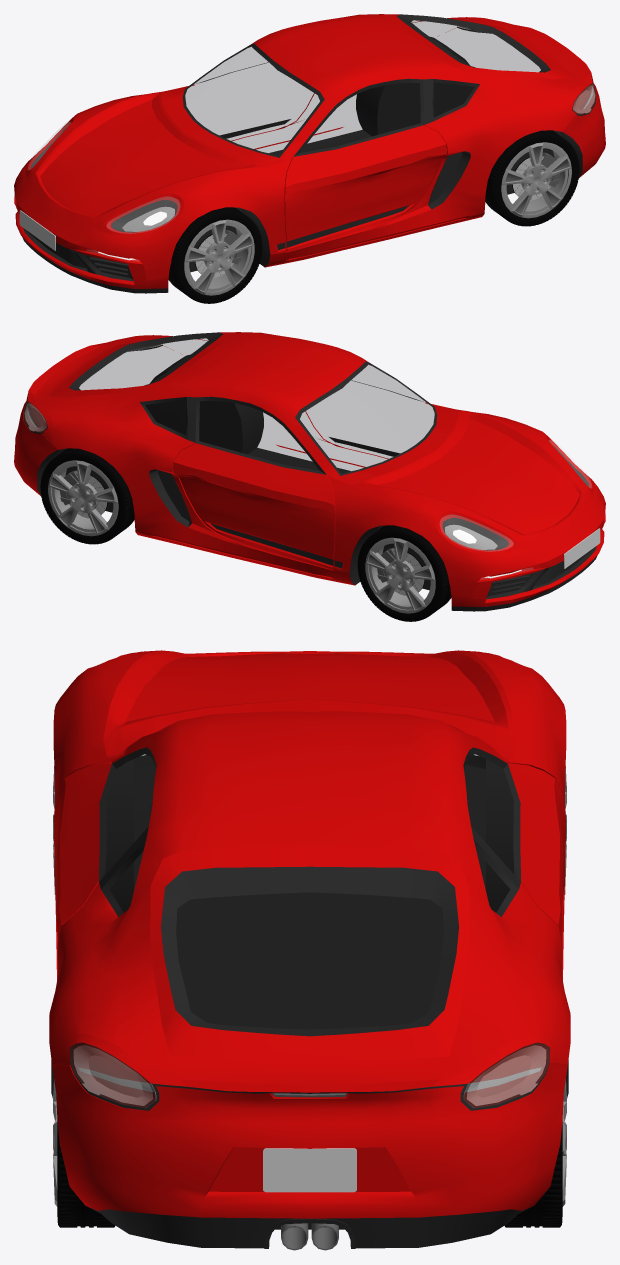
The model's file is High_718Cayman.gltf.
3 views of the same model, one above another, from view 1: azimuth 30°, elevation 25°; view 2: azimuth 150°, elevation 25°; view 3: azimuth 270°, elevation 25° (orthographic). The views are drawn at different scales.
Parts seen in each view (by area): view 1: body, High, lowdisk.002; view 2: body, High, lowdisk.002; view 3: body, High.
Part boxes in pixels (x1=…): body: x1=14, y1=14, x2=605, y2=293; High: x1=168, y1=130, x2=579, y2=303; lowdisk.002: x1=224, y1=152, x2=559, y2=264; body: x1=14, y1=332, x2=605, y2=611; High: x1=40, y1=448, x2=451, y2=621; lowdisk.002: x1=60, y1=470, x2=395, y2=582; body: x1=49, y1=650, x2=570, y2=1250; High: x1=53, y1=766, x2=566, y2=1227.
Size of the model in its own units: 4.34 by 1.29 by 1.83.
Materials: 14 (1 with a texture image).
